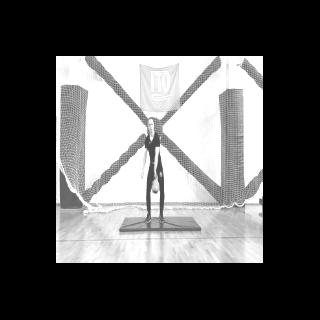kettlebell: (152, 173, 160, 194)
